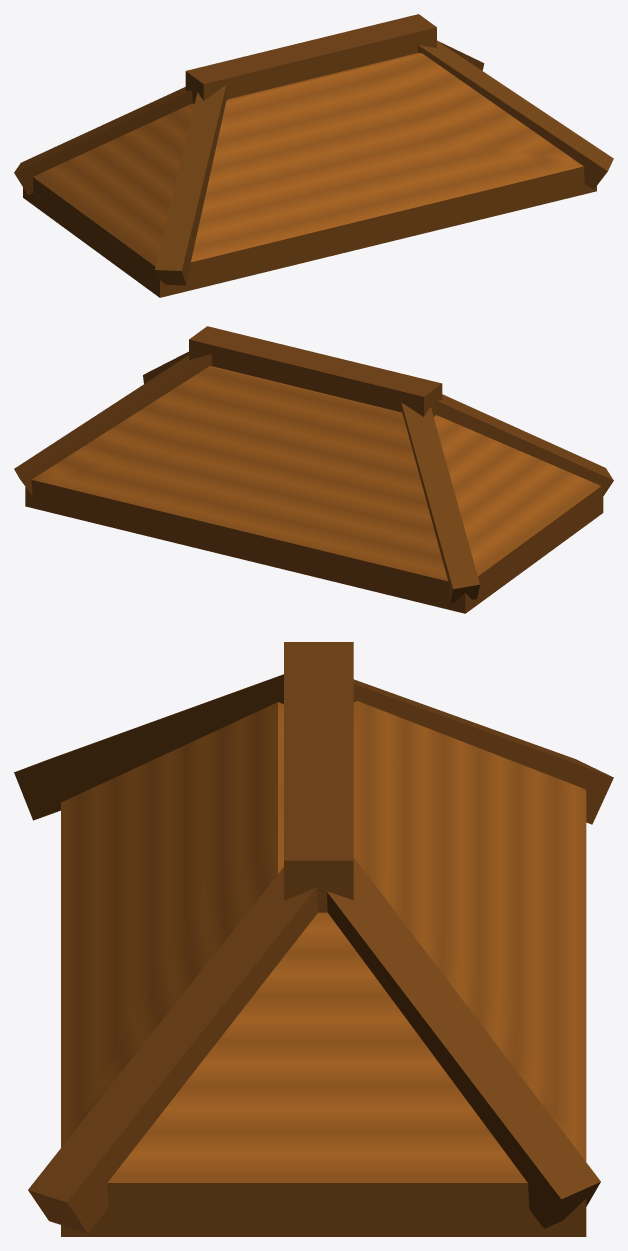
Rendered from smallgranary_top.fbx.
3 renders of one model, top to bottom at view 1: azimuth 30°, elevation 25°; view 2: azimuth 150°, elevation 25°; view 3: azimuth 270°, elevation 25°, orthographic. The views are drawn at different scales.
Parts seen in each view (by area): view 1: polySurface55; view 2: polySurface55; view 3: polySurface55.
Part boxes in pixels (x1,y1,x2,y2): polySurface55: (14,14,613,297); polySurface55: (14,326,613,613); polySurface55: (14,642,613,1236).
Size of the model in its own units: 172 by 51.36 by 99.46.
Materials: 1 (1 with a texture image).
